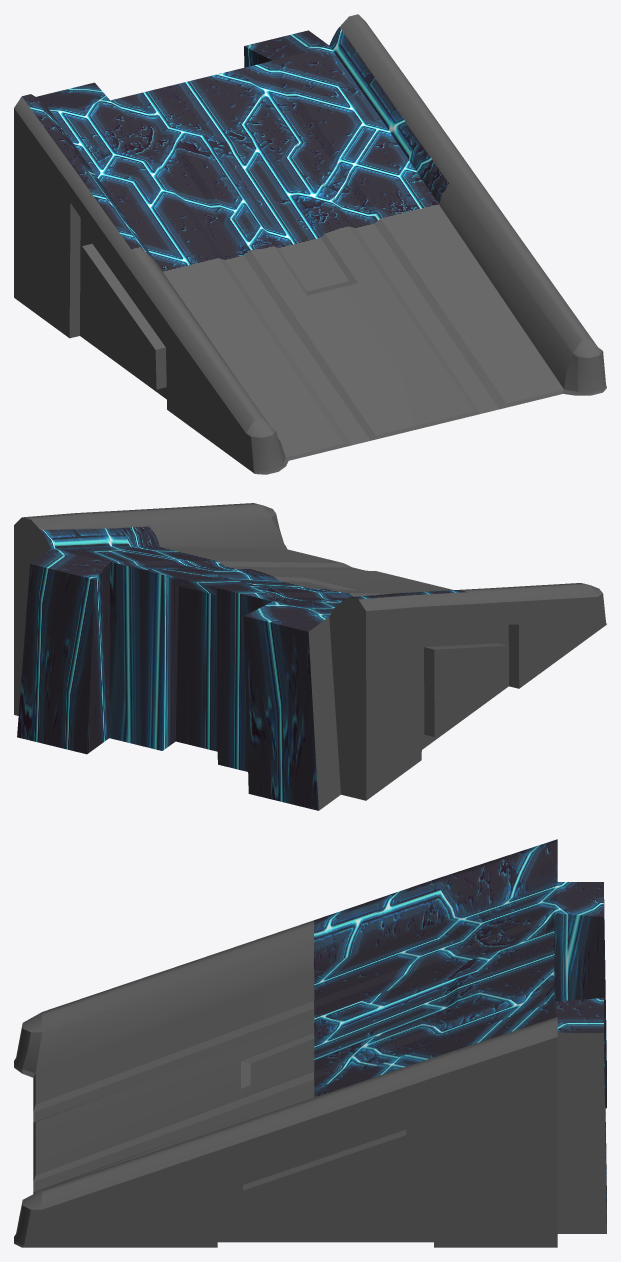
File: Ramp.obj
The picture shows the model from 3 angles, top to bottom: view 1: azimuth 30°, elevation 25°; view 2: azimuth 150°, elevation 25°; view 3: azimuth 270°, elevation 25°; orthographic projection. The views are drawn at different scales.
Visible parts, largest first — view 1: pCube1; view 2: pCube1; view 3: pCube1.
Part boxes in pixels (bbox=[...]): pCube1: bbox=[14, 14, 606, 474]; pCube1: bbox=[14, 503, 606, 810]; pCube1: bbox=[14, 839, 606, 1247].
Size of the model in its own units: 8.81 by 4.77 by 11.56.
